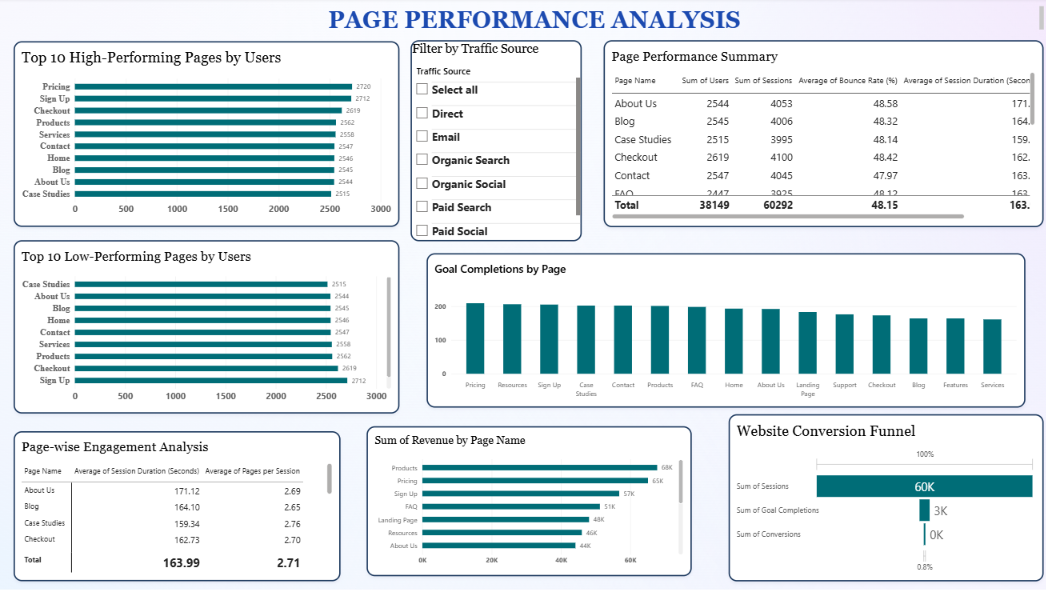

Layout of this report page (visuals, bound fields, positions):
{"tool":"powerbi","page":{"name":"Page 2","canvas":[1920,1080],"ordinal":1},"visuals":[{"type":"textbox","box":[11.5,0,1907.7,76.9],"z":0},{"type":"clusteredBarChart","title":"Top 10 High-Performing Pages by Users","fields":{"Category":["website_traffic_analysis.Page Name"],"Y":["Sum(website_traffic_analysis.Users)"]},"box":[28.8,76.2,701.9,337.6],"z":1000},{"type":"clusteredBarChart","title":"Top 10 Low-Performing Pages by Users","fields":{"Category":["website_traffic_analysis.Page Name"],"Y":["Sum(website_traffic_analysis.Users)"]},"box":[28.8,438.5,701.9,315.4],"z":2000},{"type":"slicer","title":"Filter by  Traffic Source","fields":{"Values":["website_traffic_analysis.Traffic Source"]},"box":[750,75,311.5,365.4],"z":3000},{"type":"funnel","title":"Website Conversion Funnel","fields":{"Y":["Sum(website_traffic_analysis.Sessions)","Sum(website_traffic_analysis.Goal Completions)","Sum(website_traffic_analysis.Conversions)"]},"box":[1328.8,753.8,573.1,303.8],"z":3001},{"type":"tableEx","title":"Page Performance Summary","fields":{"Values":["website_traffic_analysis.Page Name","Sum(website_traffic_analysis.Users)","Sum(website_traffic_analysis.Sessions)","Avg(website_traffic_analysis.Bounce Rate (%))","Avg(website_traffic_analysis.Session Duration (Seconds))","Sum(website_traffic_analysis.Revenue)"]},"box":[1102.1,74.2,799.9,340.2],"z":3002},{"type":"pivotTable","title":"Page-wise Engagement Analysis","fields":{"Rows":["website_traffic_analysis.Page Name"],"Values":["Avg(website_traffic_analysis.Session Duration (Seconds))","Avg(website_traffic_analysis.Pages per Session)"]},"box":[29,785.4,620.7,273.3],"z":3003},{"type":"clusteredBarChart","fields":{"Category":["website_traffic_analysis.Page Name"],"Y":["Sum(website_traffic_analysis.Revenue)"]},"box":[749.2,776.3,512,273],"z":3004},{"type":"clusteredColumnChart","title":"Goal Completions by Page","fields":{"Category":["website_traffic_analysis.Page Name"],"Y":["Sum(website_traffic_analysis.Goal Completions)"]},"box":[780.8,461.5,1088.5,280.8],"z":3005}]}

Visuals, with their boxes in screenshot pixels (x1, y1, x2, y2), scaled from the page's 1920x1080 canvas onto the 1046x590 screenshot:
textbox: detection(6, 0, 1045, 42)
"Top 10 High-Performing Pages by Users" clusteredBarChart: detection(16, 42, 398, 226)
"Top 10 Low-Performing Pages by Users" clusteredBarChart: detection(16, 240, 398, 412)
"Filter by  Traffic Source" slicer: detection(409, 41, 578, 241)
"Website Conversion Funnel" funnel: detection(724, 412, 1036, 578)
"Page Performance Summary" tableEx: detection(600, 41, 1036, 226)
"Page-wise Engagement Analysis" pivotTable: detection(16, 429, 354, 578)
clusteredBarChart - website_traffic_analysis.Page Name x Sum(website_traffic_analysis.Revenue): detection(408, 424, 687, 573)
"Goal Completions by Page" clusteredColumnChart: detection(425, 252, 1018, 406)
